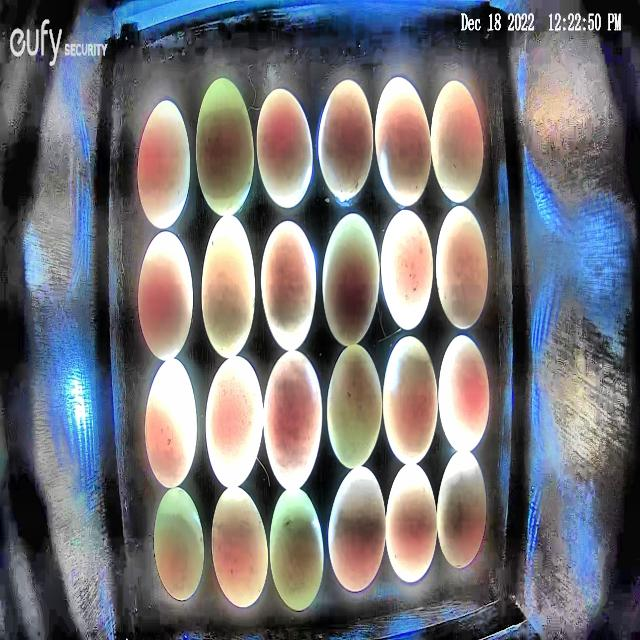UF: (195, 75, 254, 218), (265, 350, 324, 492), (321, 211, 381, 347), (201, 213, 256, 359), (205, 354, 264, 490), (259, 219, 318, 352), (374, 77, 432, 208), (138, 228, 194, 363), (210, 484, 270, 610), (326, 341, 383, 472), (383, 334, 439, 466), (136, 99, 192, 230), (328, 466, 386, 592), (434, 203, 490, 332), (144, 358, 199, 489), (256, 87, 314, 209), (318, 78, 375, 202), (430, 79, 484, 205), (270, 488, 324, 612), (381, 207, 434, 332), (385, 463, 438, 582), (439, 334, 490, 455), (436, 449, 487, 569), (154, 488, 205, 601)
